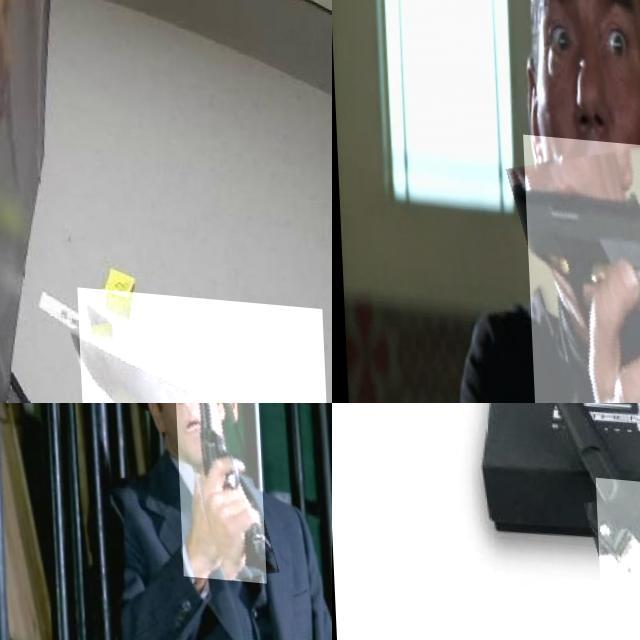-: (73, 284, 326, 403)
gun-knife-thesis - v11 Yolov5 augmented: (520, 130, 640, 403), (172, 403, 263, 575)
